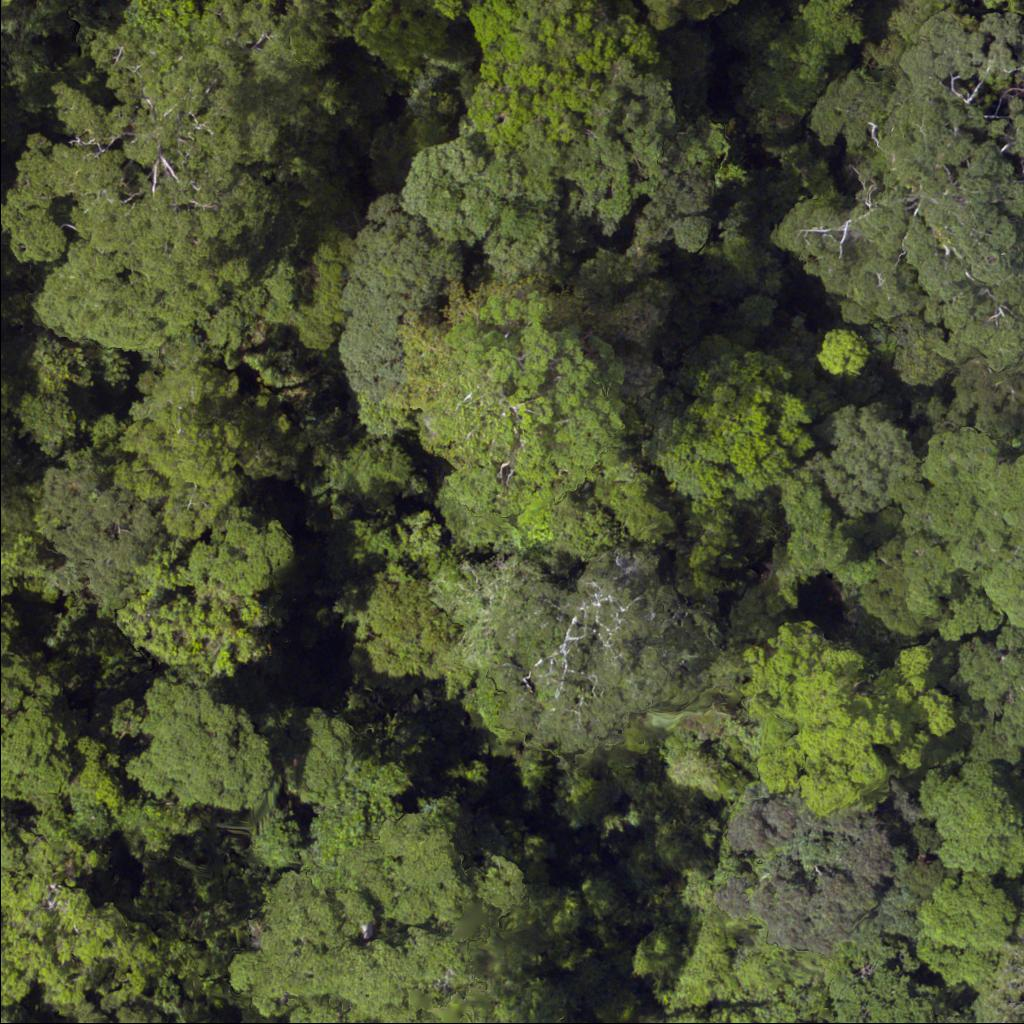crown: (0, 0, 301, 353), (772, 0, 1023, 388), (223, 807, 528, 1023), (400, 305, 660, 549), (457, 540, 727, 755), (855, 424, 1023, 645), (759, 629, 950, 800), (459, 0, 654, 157), (398, 136, 557, 282), (650, 357, 804, 507), (107, 681, 279, 815), (728, 802, 889, 944), (341, 199, 453, 394), (121, 368, 235, 531), (112, 562, 265, 678), (44, 468, 153, 597), (920, 764, 1023, 876), (815, 407, 912, 508), (919, 879, 1013, 981), (954, 628, 1023, 765), (829, 941, 942, 1023), (361, 582, 456, 671), (776, 479, 843, 596), (787, 0, 864, 84), (970, 908, 1023, 1023), (190, 525, 284, 588), (302, 711, 353, 791), (819, 332, 865, 373), (70, 1002, 147, 1023), (0, 0, 16, 16), (790, 1016, 825, 1023), (0, 1011, 9, 1023)
